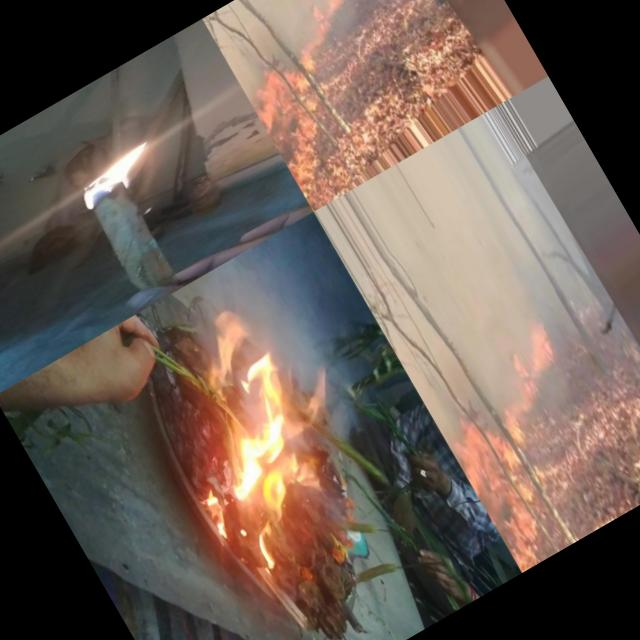fire: (306, 459, 447, 640), (444, 422, 552, 573), (242, 57, 358, 196), (254, 477, 358, 607), (67, 120, 185, 212), (255, 384, 332, 486), (496, 316, 576, 402), (480, 418, 542, 509), (497, 399, 541, 457), (301, 0, 364, 33), (430, 572, 467, 616), (294, 45, 322, 77)
smoke: (160, 338, 298, 510)
